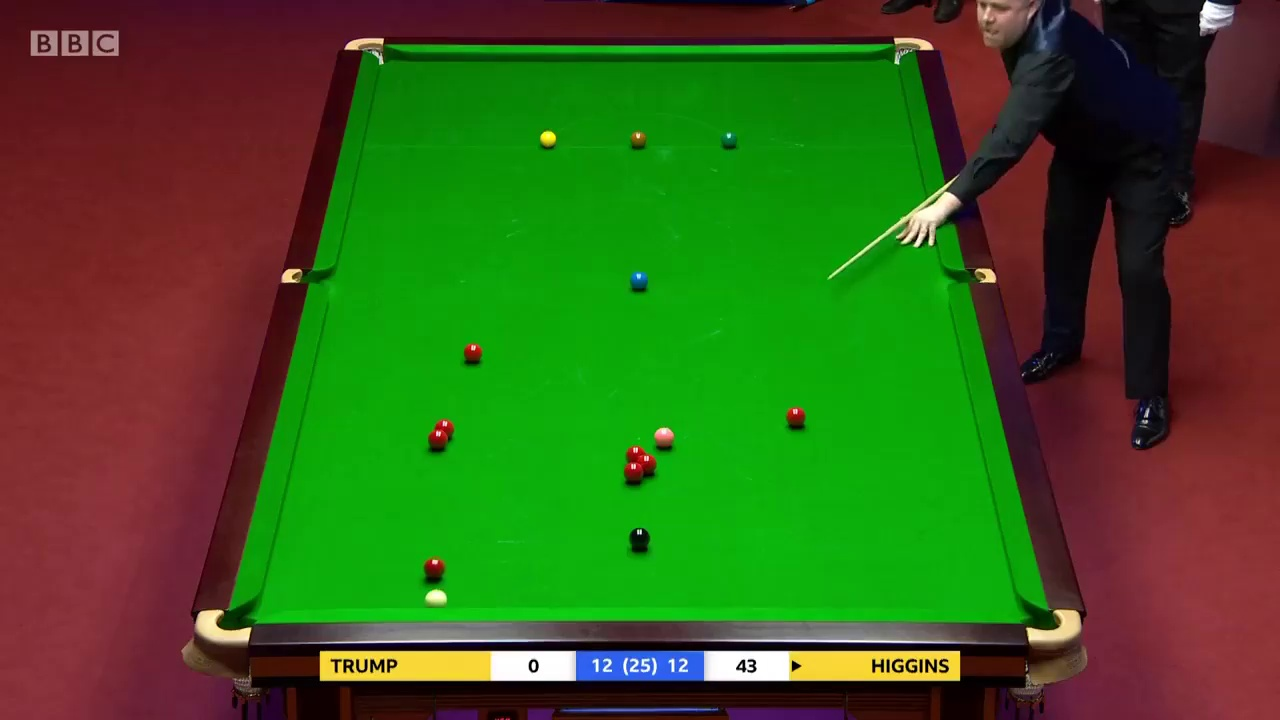ball: (782, 404, 807, 429), (422, 555, 446, 578), (629, 526, 649, 551), (652, 428, 674, 449), (621, 461, 641, 483), (463, 343, 482, 366), (628, 270, 649, 289), (629, 129, 647, 149), (537, 132, 558, 149), (717, 129, 737, 146), (429, 429, 447, 447)
